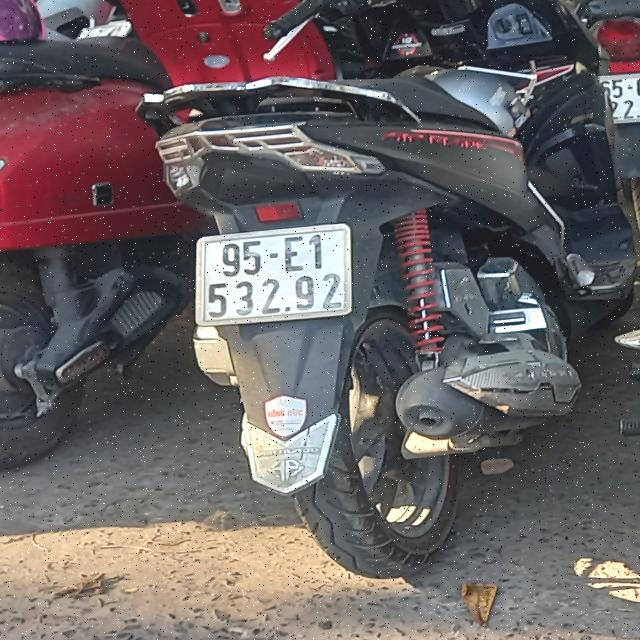1: (307, 233, 327, 270)
2: (321, 272, 343, 313), (262, 277, 282, 315)
3: (233, 278, 253, 319)
5: (207, 281, 231, 320), (243, 238, 262, 276)
9: (292, 274, 316, 313), (223, 242, 241, 277)
E: (283, 235, 304, 272)
